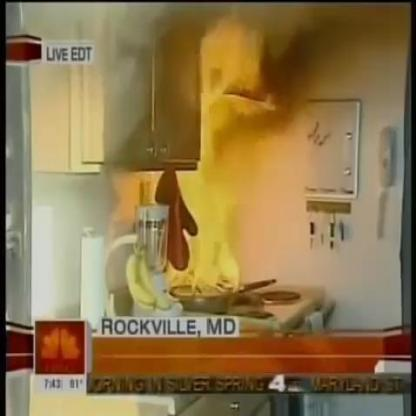fire: (160, 17, 272, 299)
